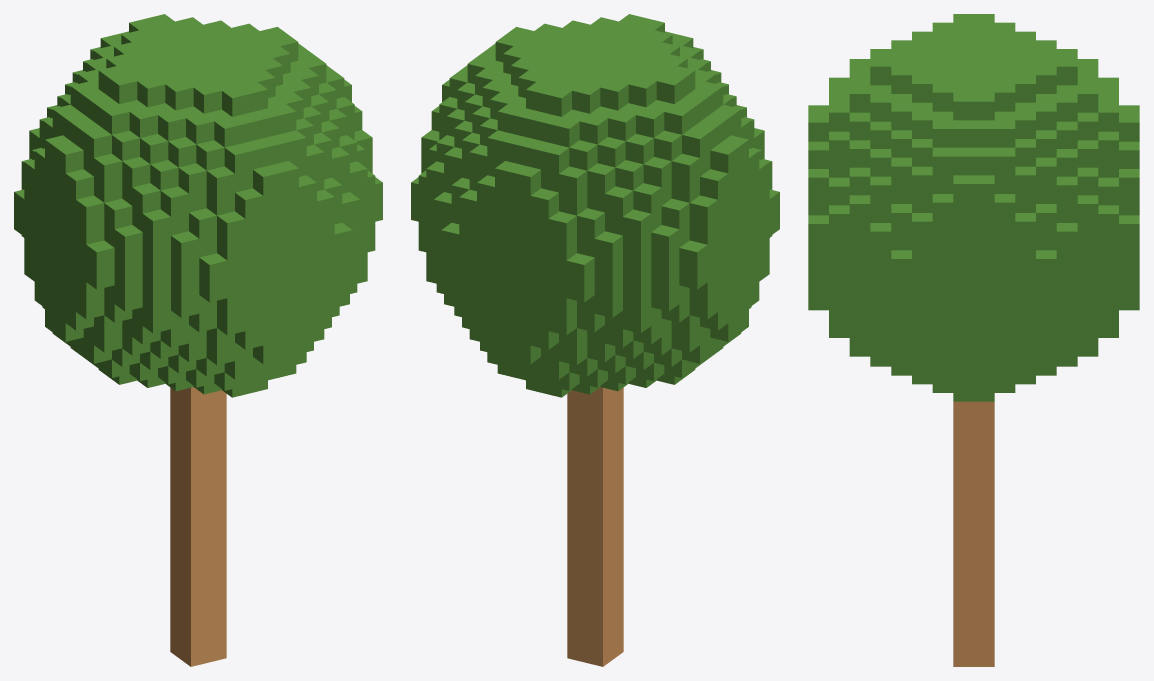
Rendered from TreeDark_3.obj.
The picture shows the model from 3 angles, left to right: view 1: azimuth 30°, elevation 25°; view 2: azimuth 150°, elevation 25°; view 3: azimuth 270°, elevation 25°; orthographic projection.
Bounding box in the file's own units: 1.6 × 3.2 × 1.6.
1 material, 1 textured.
